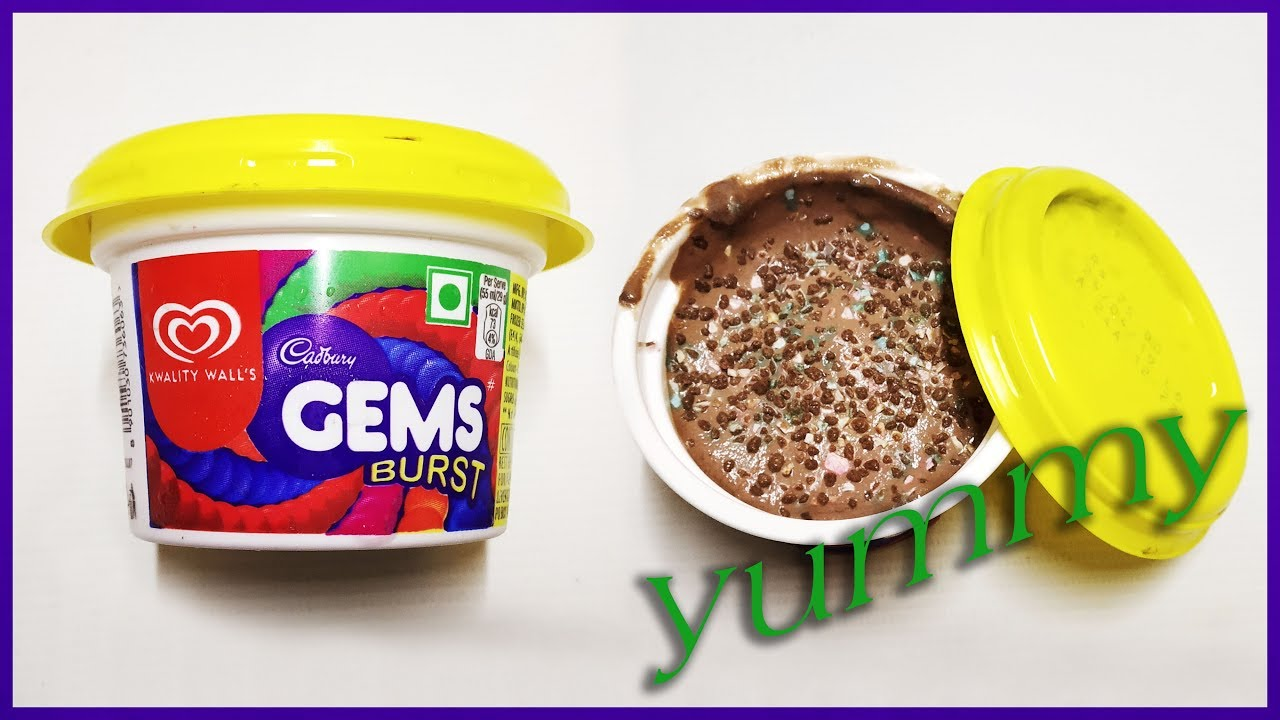Kwality_Walls: (134, 288, 247, 376)
